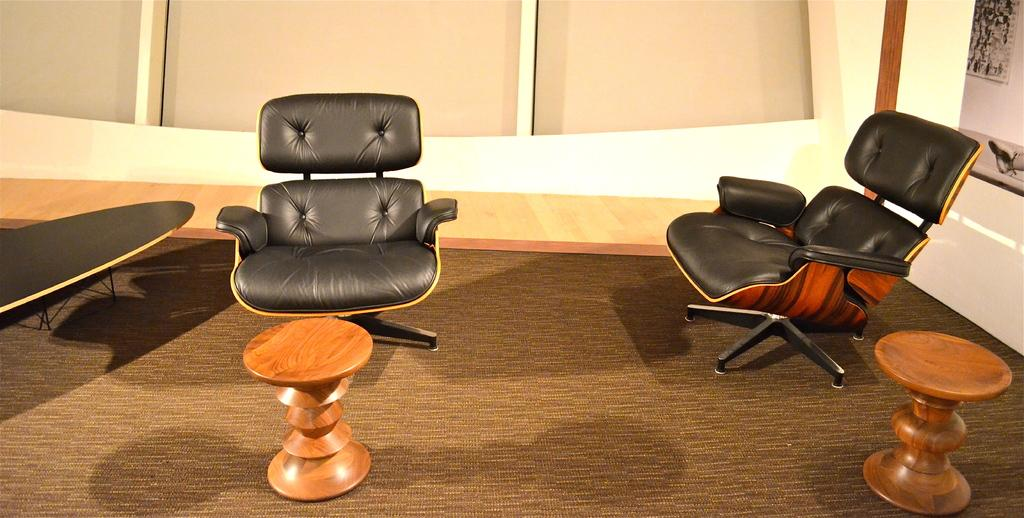Chair: (660, 103, 978, 390), (213, 95, 463, 364)
